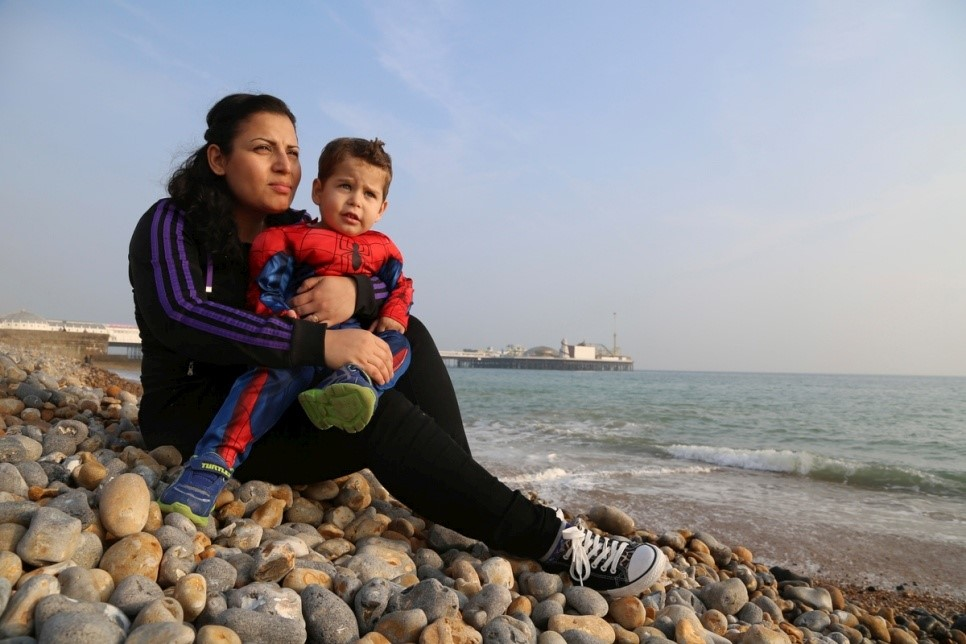face_no_mask: (205, 93, 300, 215), (311, 135, 391, 238)
